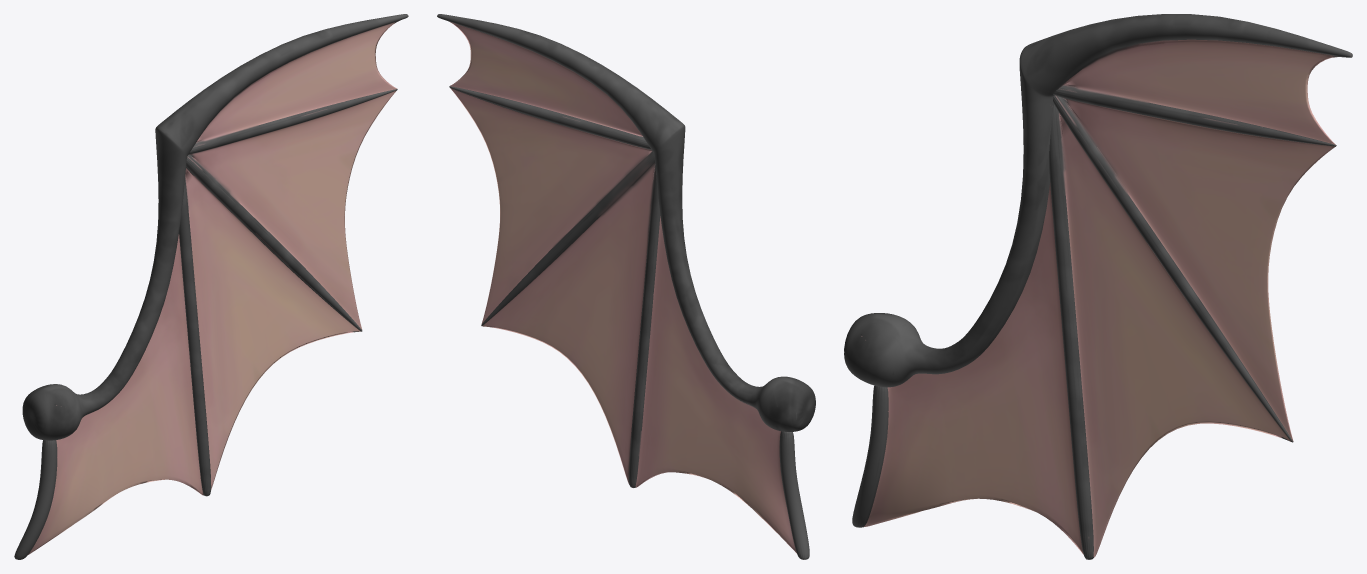
The model's file is Pippi_Ala.fbx.
The picture shows the model from 3 angles, left to right: view 1: azimuth 30°, elevation 25°; view 2: azimuth 150°, elevation 25°; view 3: azimuth 330°, elevation 25°; orthographic projection. The views are drawn at different scales.
Visible parts, largest first — view 1: Ali; view 2: Ali; view 3: Ali.
Boxes of the visible parts, <box> form: Ali: <box>14,14,408,559</box>; Ali: <box>437,14,815,559</box>; Ali: <box>844,14,1352,559</box>.
Bounding box in the file's own units: 29.41 × 33.57 × 3.69.
